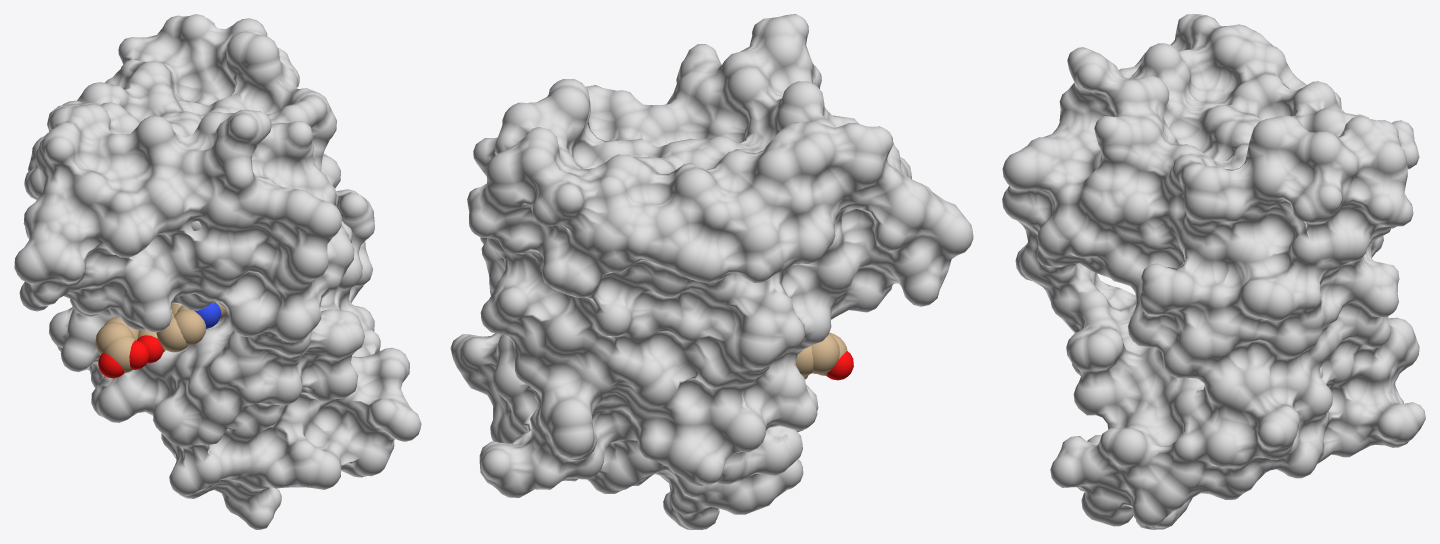
Rendered from Folate + DHFR.dae.
The picture shows the model from 3 angles, left to right: view 1: azimuth 30°, elevation 25°; view 2: azimuth 150°, elevation 25°; view 3: azimuth 270°, elevation 25°; orthographic projection. The views are drawn at different scales.
Visible parts, largest first — view 1: subnode_32, subnode_16, subnode_26, subnode_15, subnode_25, subnode_28; view 2: subnode_32, subnode_25; view 3: subnode_32.
Part boxes in pixels (x1,y1,x2,y2): subnode_32: (14, 14, 421, 529); subnode_16: (174, 309, 205, 346); subnode_26: (103, 336, 136, 373); subnode_15: (156, 316, 187, 352); subnode_25: (95, 322, 134, 354); subnode_28: (129, 340, 149, 369); subnode_32: (450, 14, 973, 529); subnode_25: (811, 334, 839, 374); subnode_32: (1002, 14, 1425, 529).
Size of the model in its own units: 44.62 by 47.14 by 39.74.
